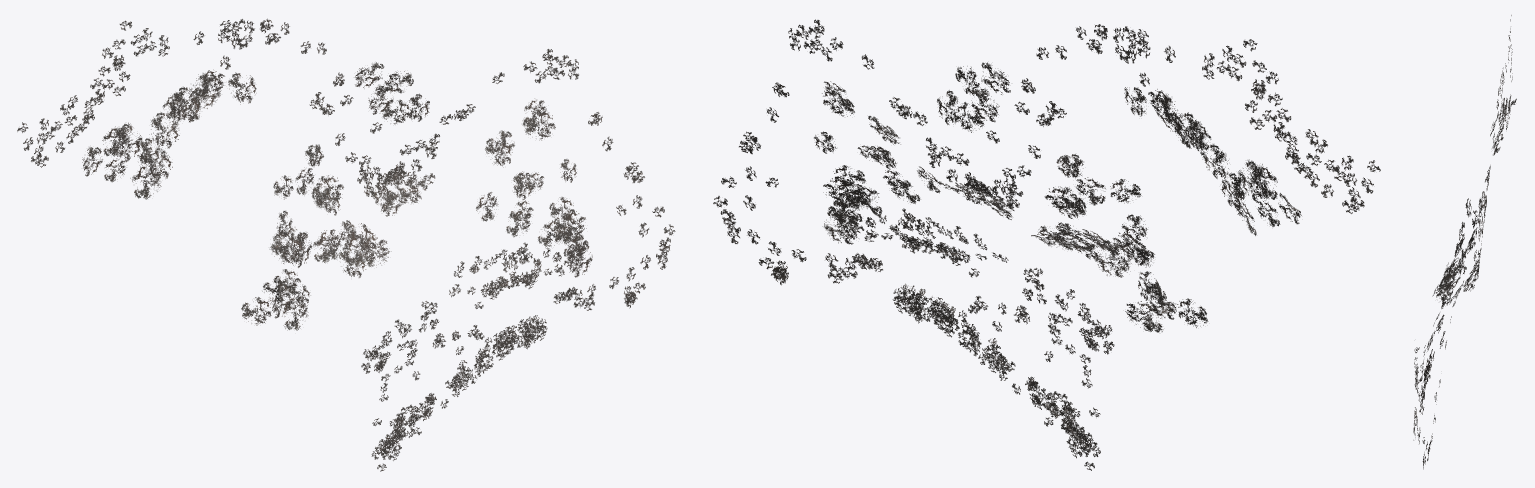
3 renders of one model, left to right at view 1: azimuth 30°, elevation 25°; view 2: azimuth 150°, elevation 25°; view 3: azimuth 270°, elevation 25°, orthographic. The views are drawn at different scales.
Size of the model in its own units: 235 by 167 by 44.94.
Materials: 1 (1 with a texture image).
